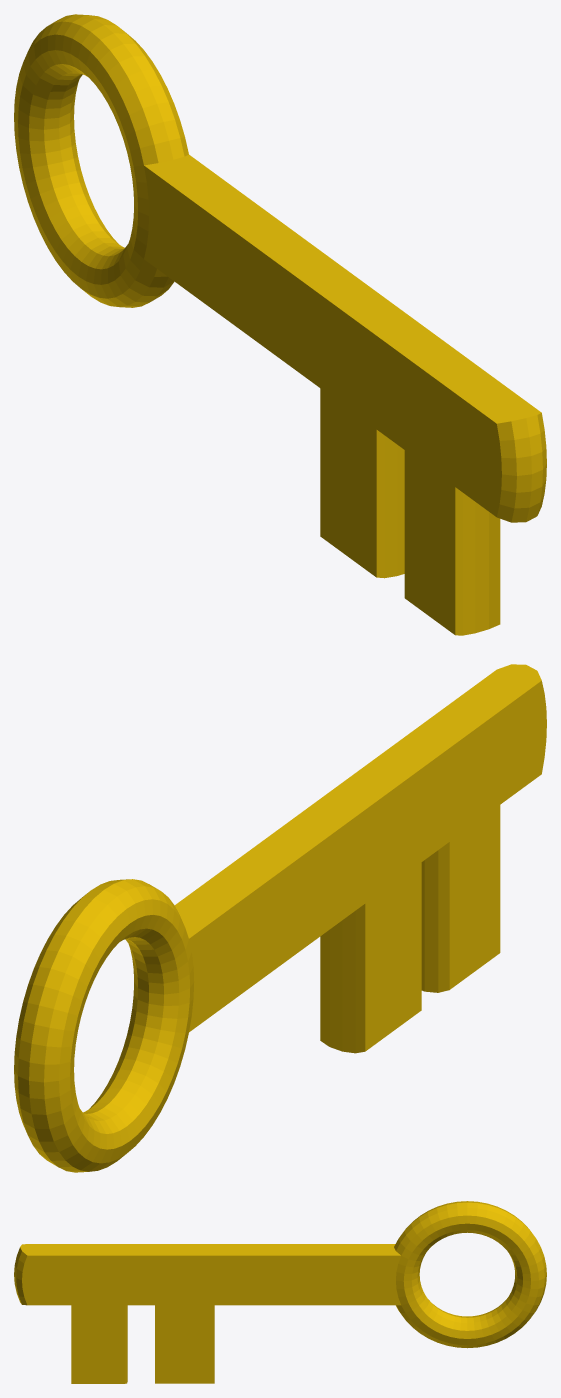
Rendered from key.glb.
The picture shows the model from 3 angles, top to bottom: view 1: azimuth 30°, elevation 25°; view 2: azimuth 150°, elevation 25°; view 3: azimuth 270°, elevation 25°; orthographic projection. The views are drawn at different scales.
Parts seen in each view (by area): view 1: Key; view 2: Key; view 3: Key.
Boxes of the visible parts, x1,y1,x2,y2 form: Key: (14,14,546,635); Key: (14,664,546,1172); Key: (14,1201,546,1383).
Bounding box in the file's own units: 0.05 × 0.3091 × 0.8374.
